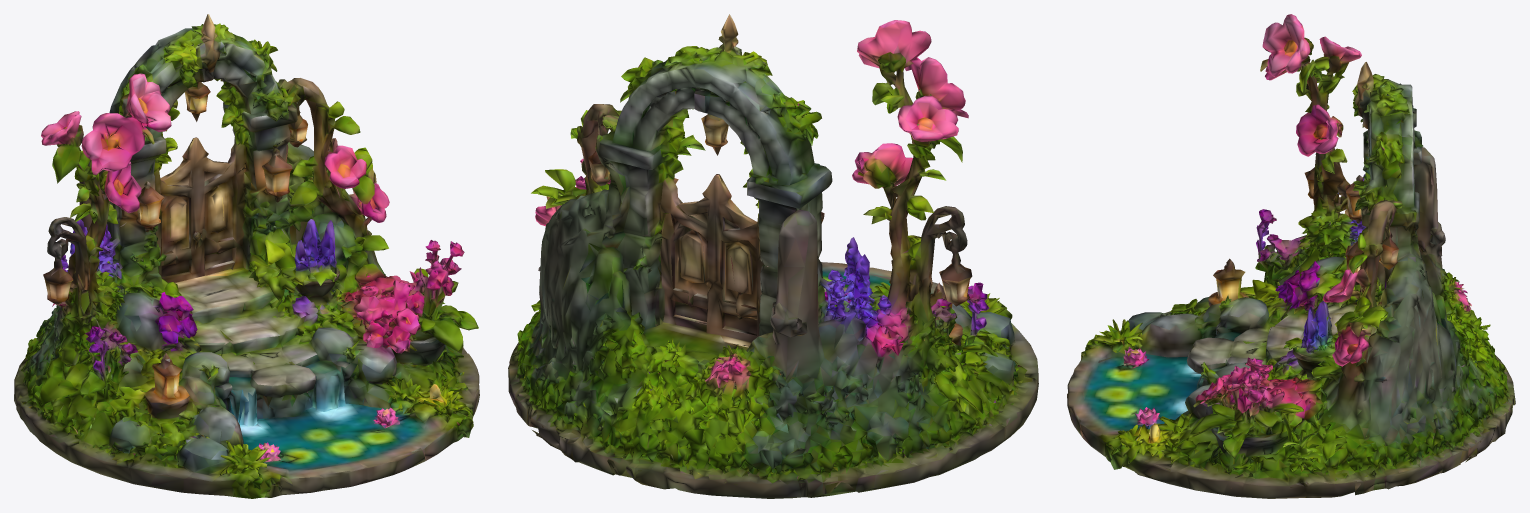
File: Enchanted_Garden_Gate.glb
3 renders of one model, left to right at view 1: azimuth 30°, elevation 25°; view 2: azimuth 150°, elevation 25°; view 3: azimuth 270°, elevation 25°, orthographic. The views are drawn at different scales.
Parts seen in each view (by area): view 1: Enchanted_Garden_Gate; view 2: Enchanted_Garden_Gate; view 3: Enchanted_Garden_Gate.
Boxes of the visible parts, x1,y1,x2,y2 form: Enchanted_Garden_Gate: (14, 14, 479, 498); Enchanted_Garden_Gate: (508, 14, 1038, 498); Enchanted_Garden_Gate: (1067, 14, 1515, 498).
Size of the model in its own units: 1.9 by 1.61 by 1.89.
1 material, 1 textured.
